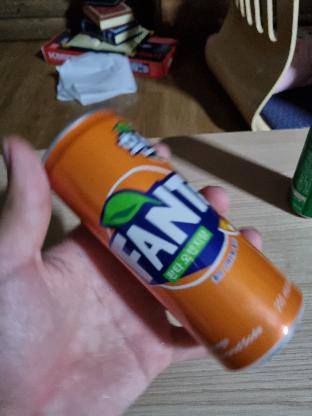Can: (42, 109, 308, 383)
